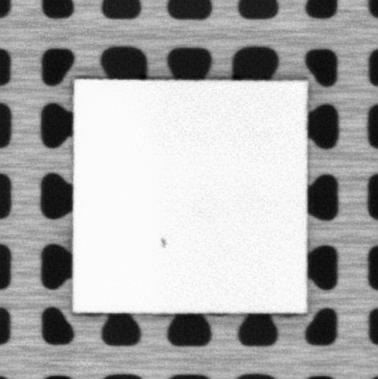DIE_INK: (158, 234, 168, 250)
